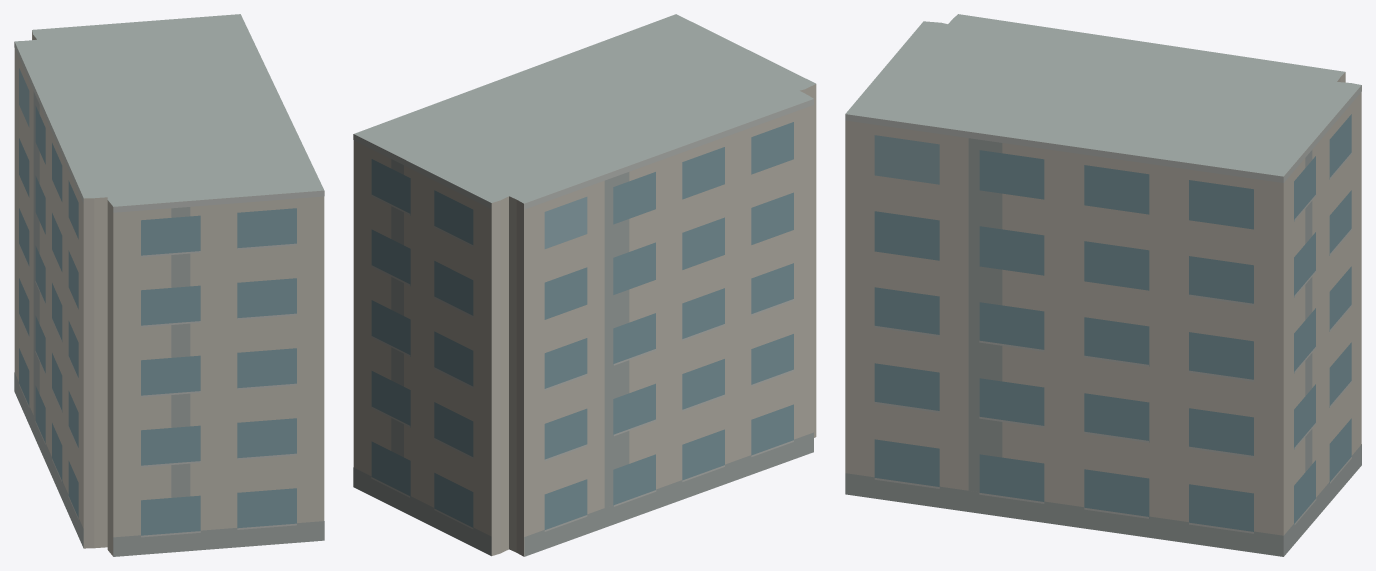
Rendered from survey-upis-32893546.glb.
3 renders of one model, left to right at view 1: azimuth 30°, elevation 25°; view 2: azimuth 150°, elevation 25°; view 3: azimuth 270°, elevation 25°, orthographic. The views are drawn at different scales.
Visible parts, largest first — view 1: survey-upis-32893546.tmp; view 2: survey-upis-32893546.tmp; view 3: survey-upis-32893546.tmp.
Boxes of the visible parts, x1,y1,x2,y2 form: survey-upis-32893546.tmp: (14, 14, 324, 556); survey-upis-32893546.tmp: (353, 14, 816, 556); survey-upis-32893546.tmp: (845, 14, 1361, 556).
Bounding box in the file's own units: 13.12 × 14.3 × 17.61.
